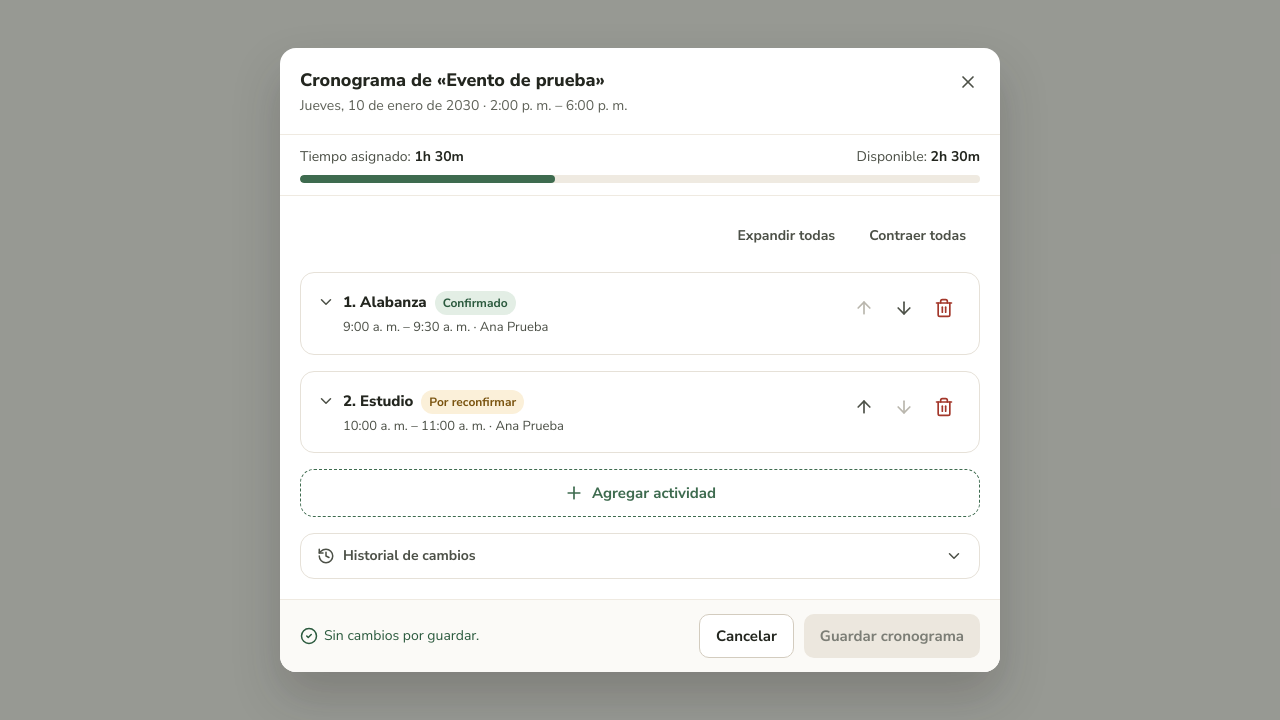
Test: ScheduleModal: actividades contraíbles › el historial se carga al desplegarlo
Check: the element named "Actividad 1" is shown, box [300,272,980,354]
What coordinates should you click on to do the following:
click the button "Historial de cambios"
I would click on:
 (409, 556)
Its box is [301,534,979,578].
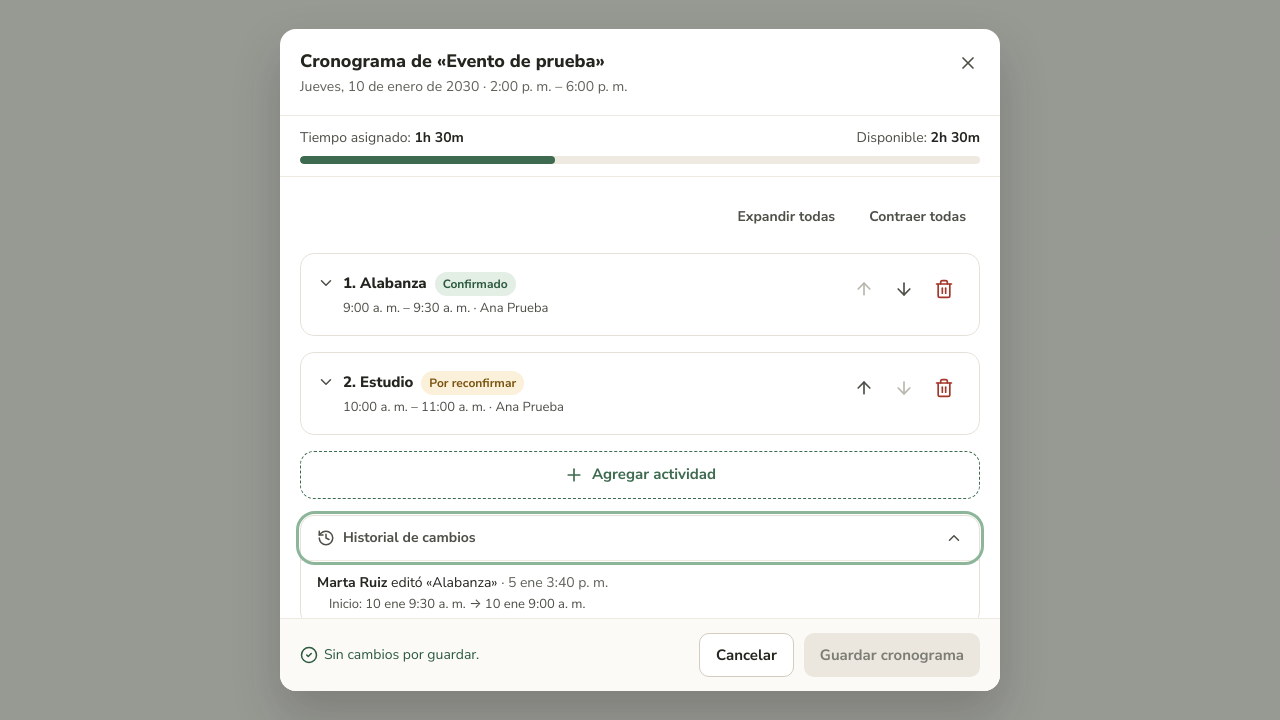
Check: the text "Marta Ruiz" is shown, box [317,573,387,592]
Check: the text "Inicio: 10 ene 9:30 a. m. → 10 ene 9:00 a. m." is shown, box [329,595,585,613]
